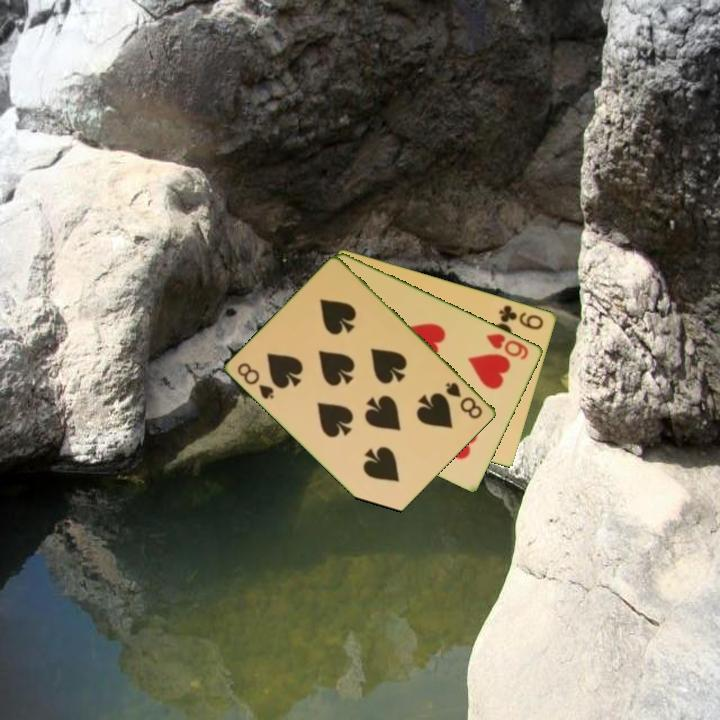6h: (483, 329, 532, 362)
8s: (442, 378, 486, 422), (234, 359, 277, 402)
9c: (496, 301, 547, 332)
